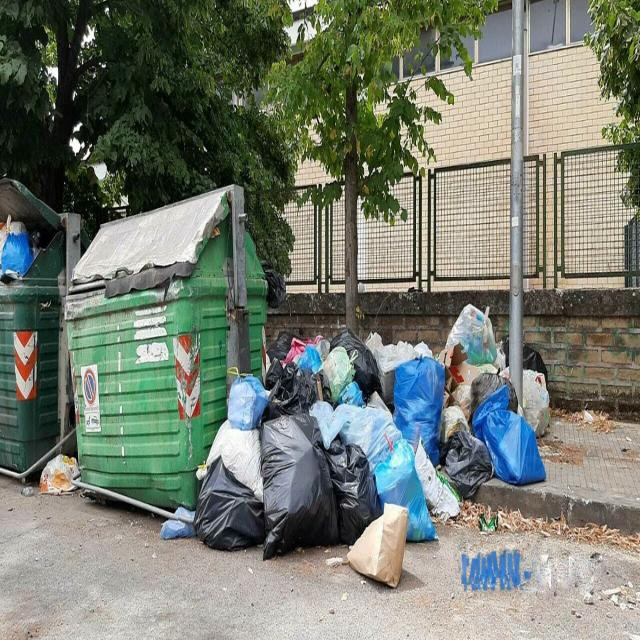garbage: (178, 278, 565, 596)
